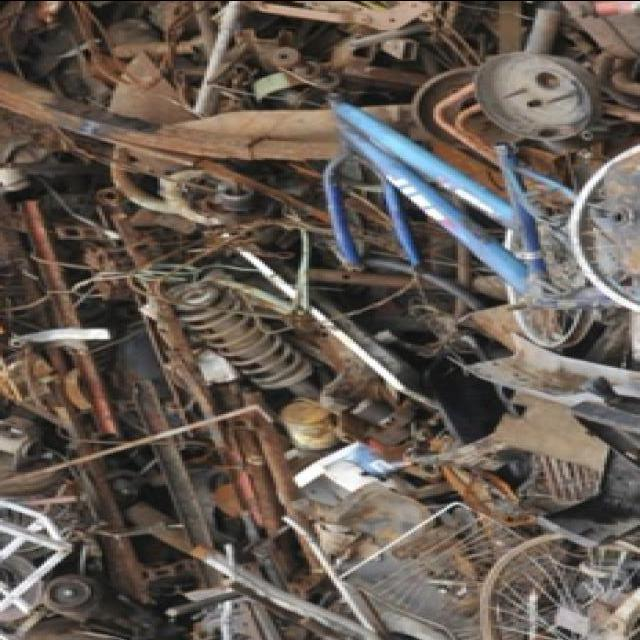shock absorber: (160, 278, 325, 399)
